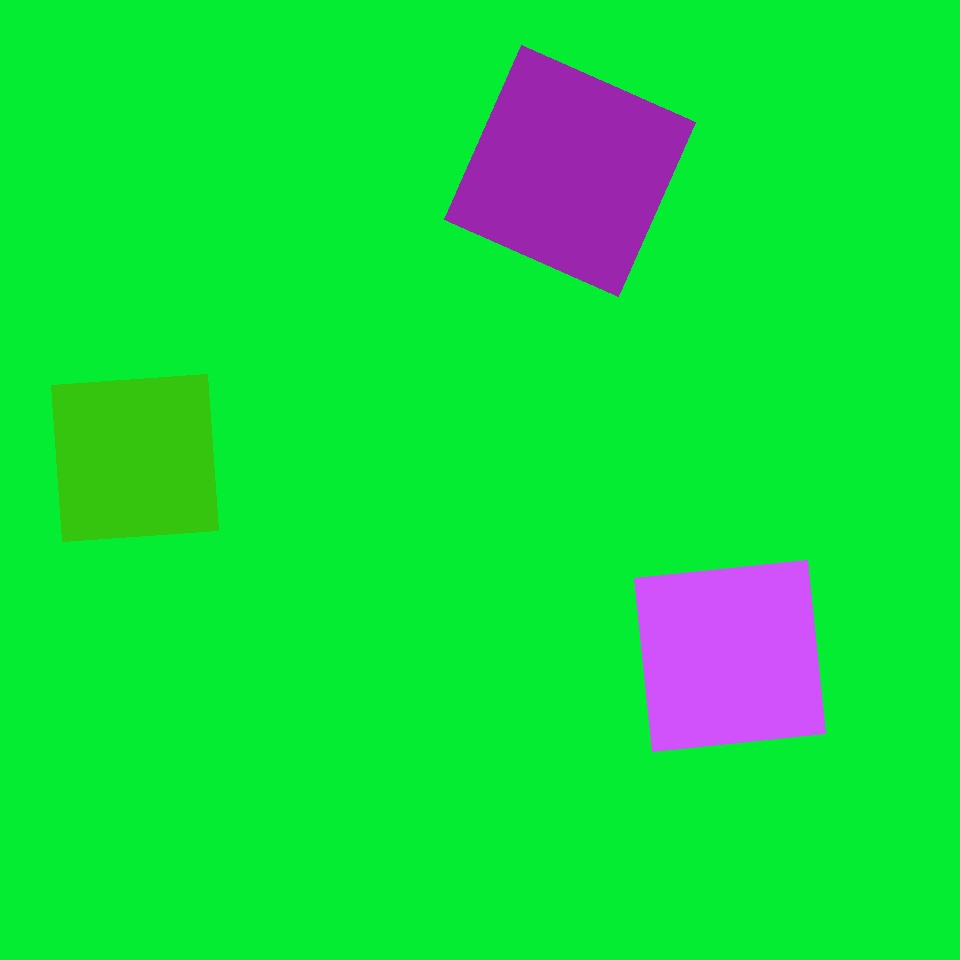circle: (262, 494, 560, 819)
square: (444, 46, 696, 296), (60, 598, 304, 842), (634, 560, 826, 752), (52, 374, 218, 542)
triangle: (583, 308, 934, 660)
